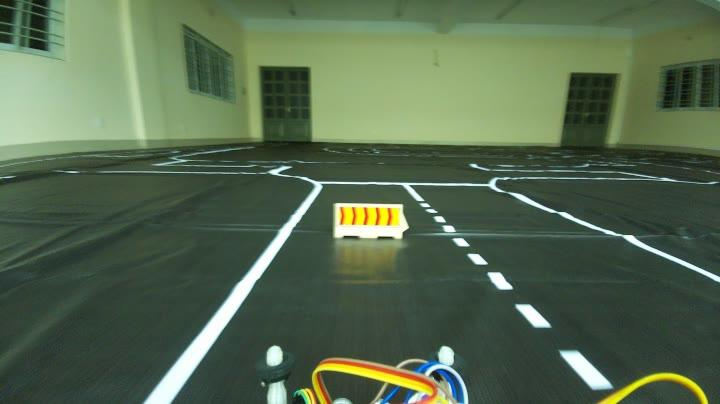roadblock: (329, 198, 412, 246)
